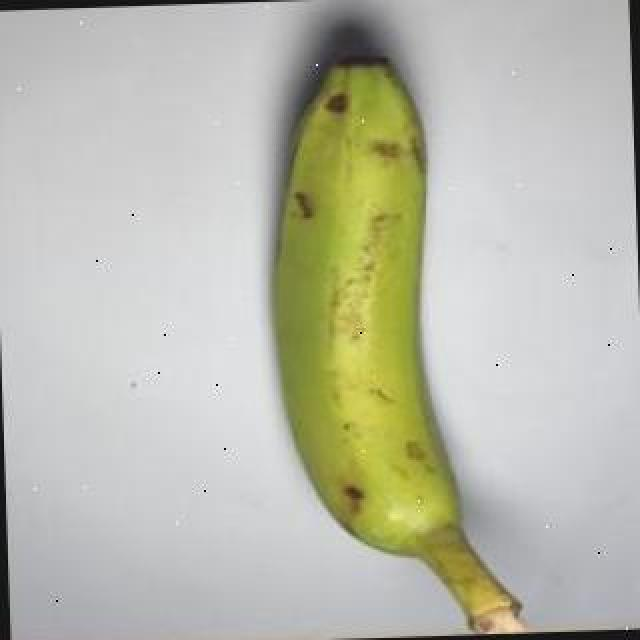Unripe: (275, 52, 529, 633)
